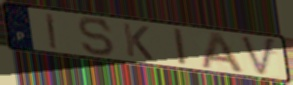A: (199, 30, 247, 74)
I: (172, 27, 190, 68), (44, 12, 59, 51)
K: (120, 21, 156, 63)
S: (77, 16, 118, 58)
V: (238, 34, 278, 79)
